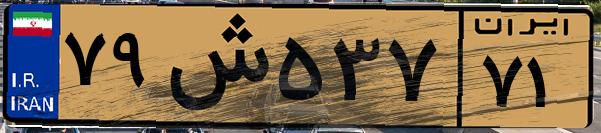1: (525, 38, 570, 115)
3: (330, 28, 385, 110)
5: (270, 28, 330, 110)
7: (385, 28, 445, 110), (57, 26, 110, 100), (475, 38, 525, 113)
9: (110, 28, 158, 98)
ش: (158, 12, 270, 120)
